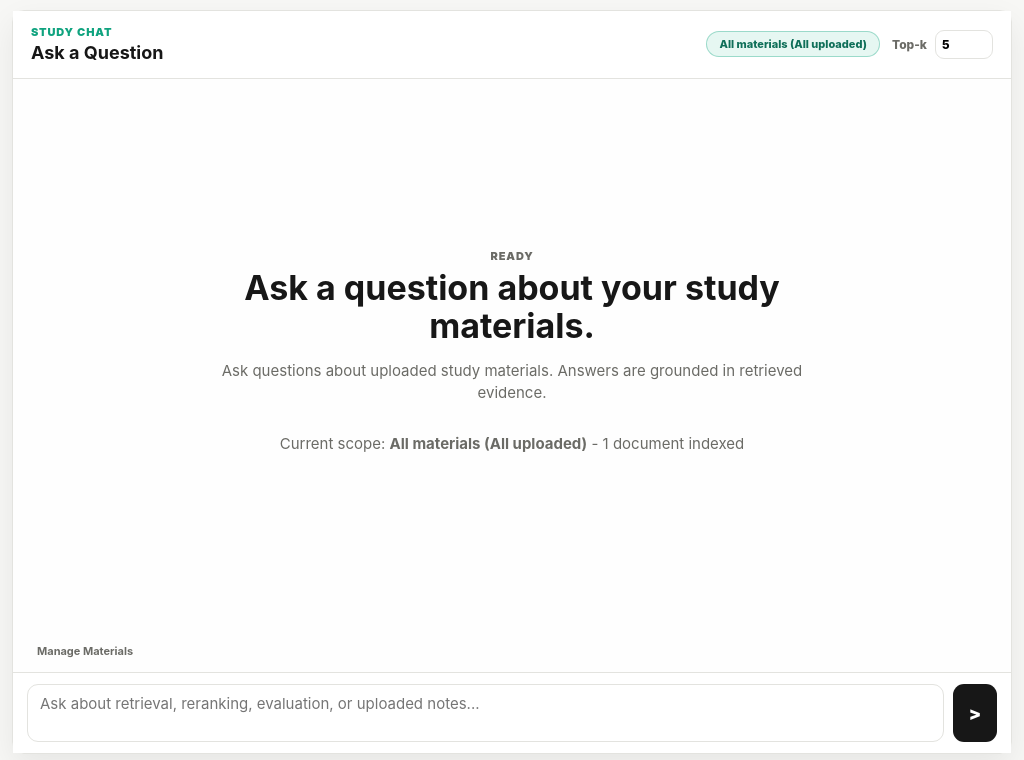
Test: React product workbench › shows a safe method-analysis empty state for insufficient evidence
The width and height of the screenshot is (1024, 760).
(page scrolled)
Type "unanswerable question" into the text box named "study question".
click(486, 713); type("unanswerable question")  # box [27,684,944,742]
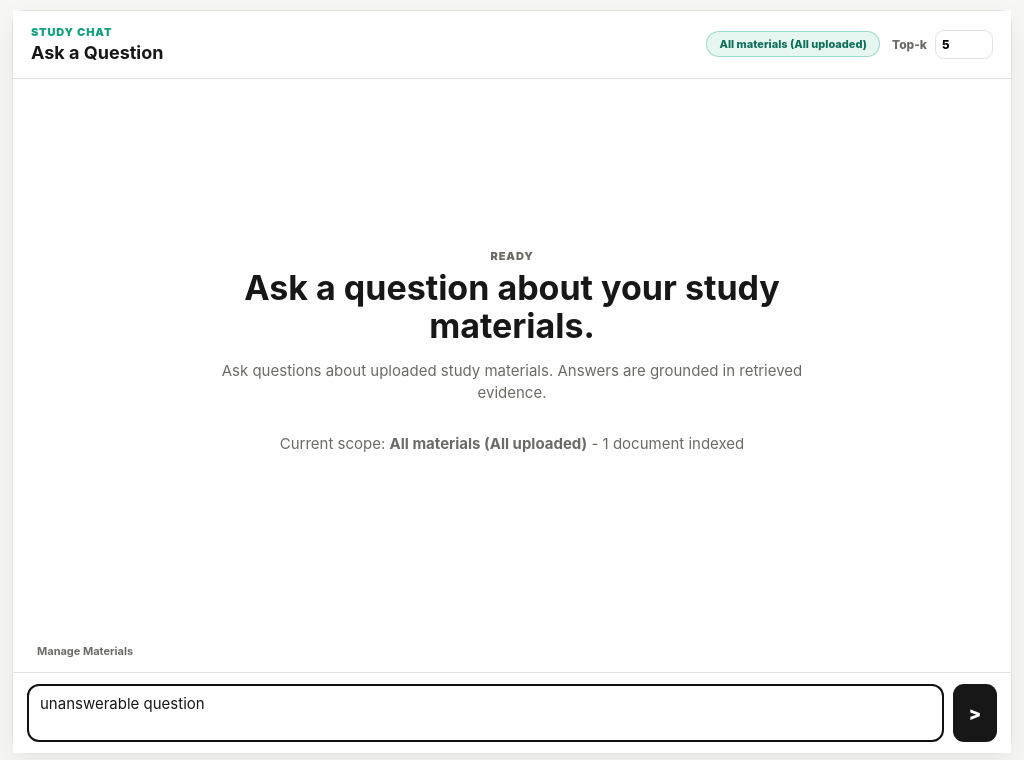
Click the button "Send".
click(975, 713)  # box [953,684,997,742]
(page scrolled)
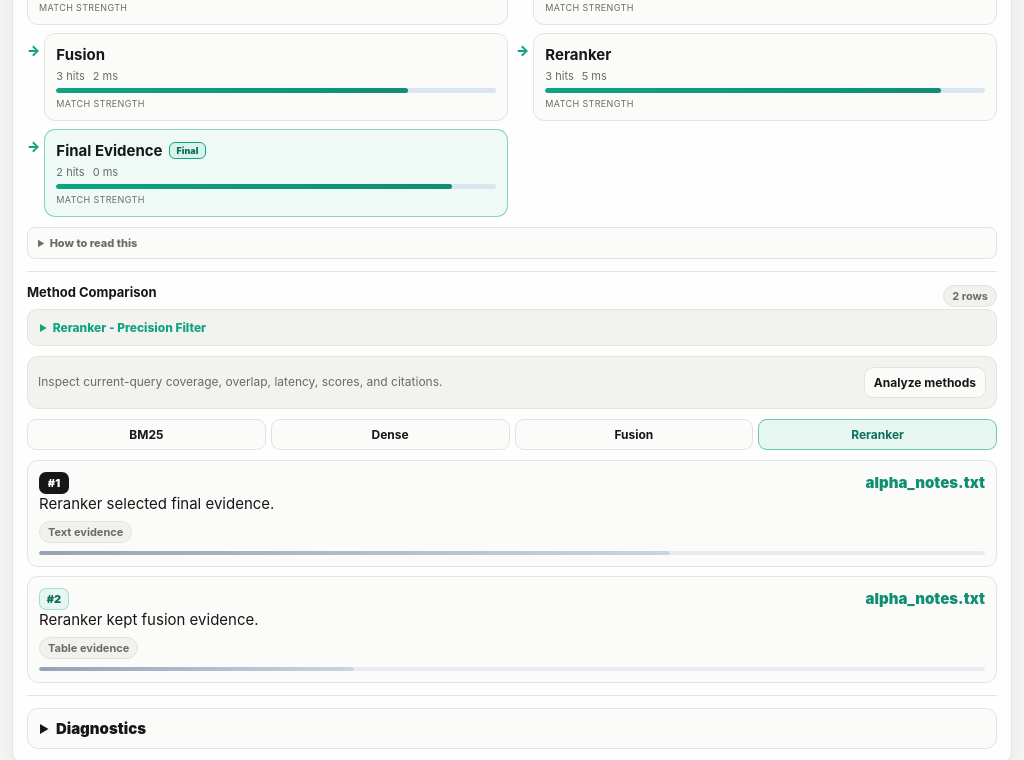
Click the button "Analyze methods".
click(925, 382)  # box [864,367,986,398]
(page scrolled)
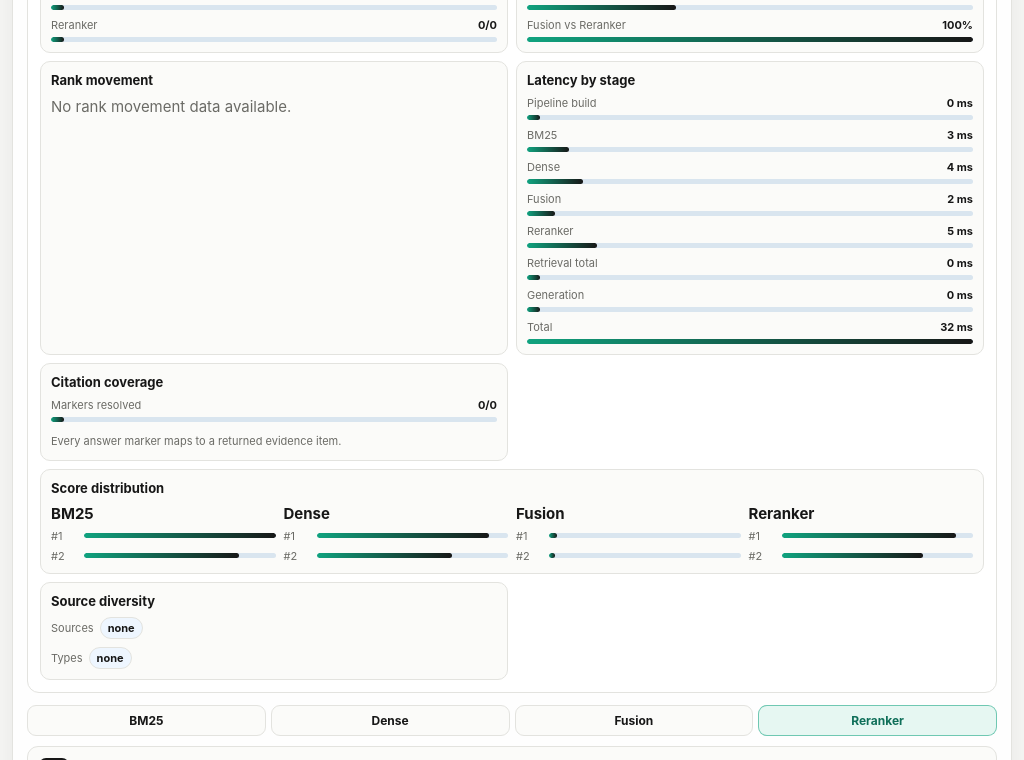
Now the heading "Citation coverage" is shown, box [51,374,163,390]
